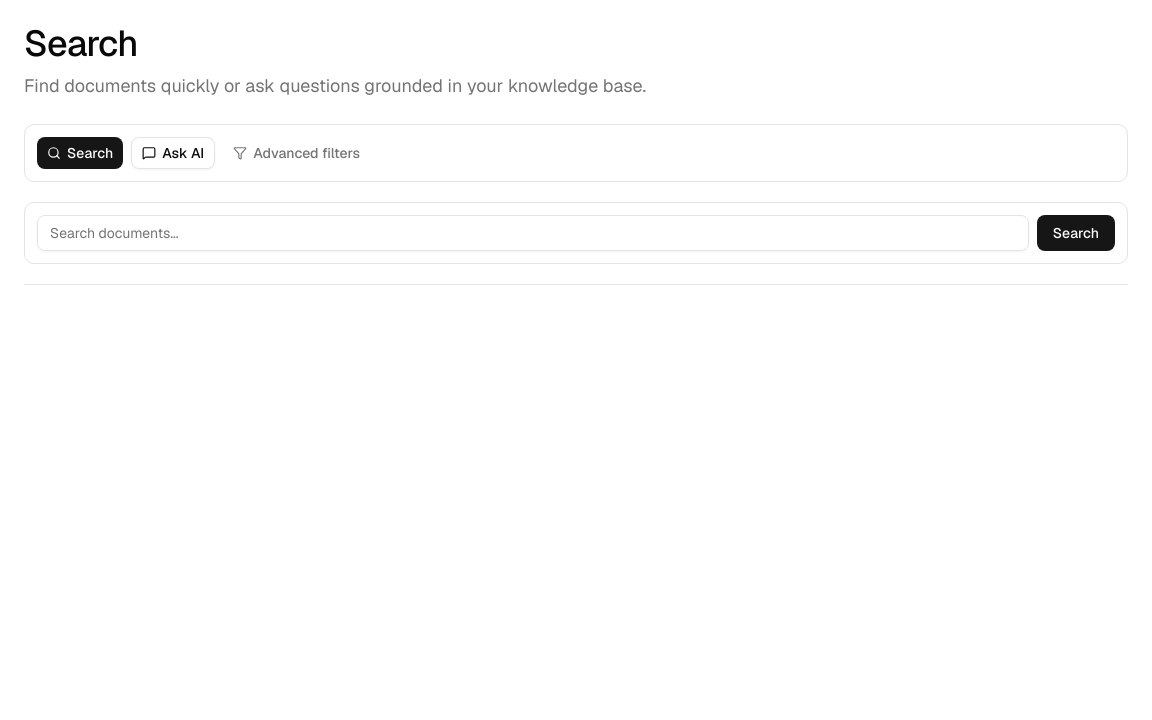
it: Search Behavior › should perform AI question answering
This screenshot has width=1152, height=720.
# Switch to Ask AI mode
Click the button "Ask AI" at (173, 153), box [131, 137, 215, 169]
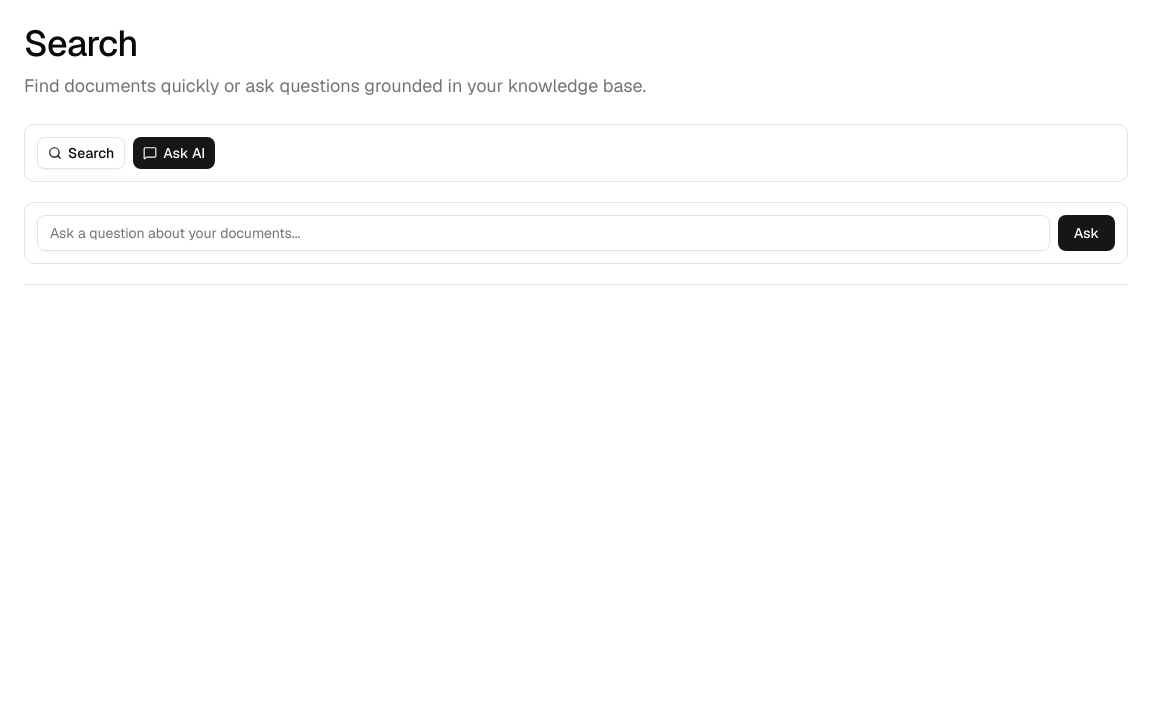
Type "what is test?" into the field with test id "search-input" at (543, 233), box [37, 215, 1050, 251]
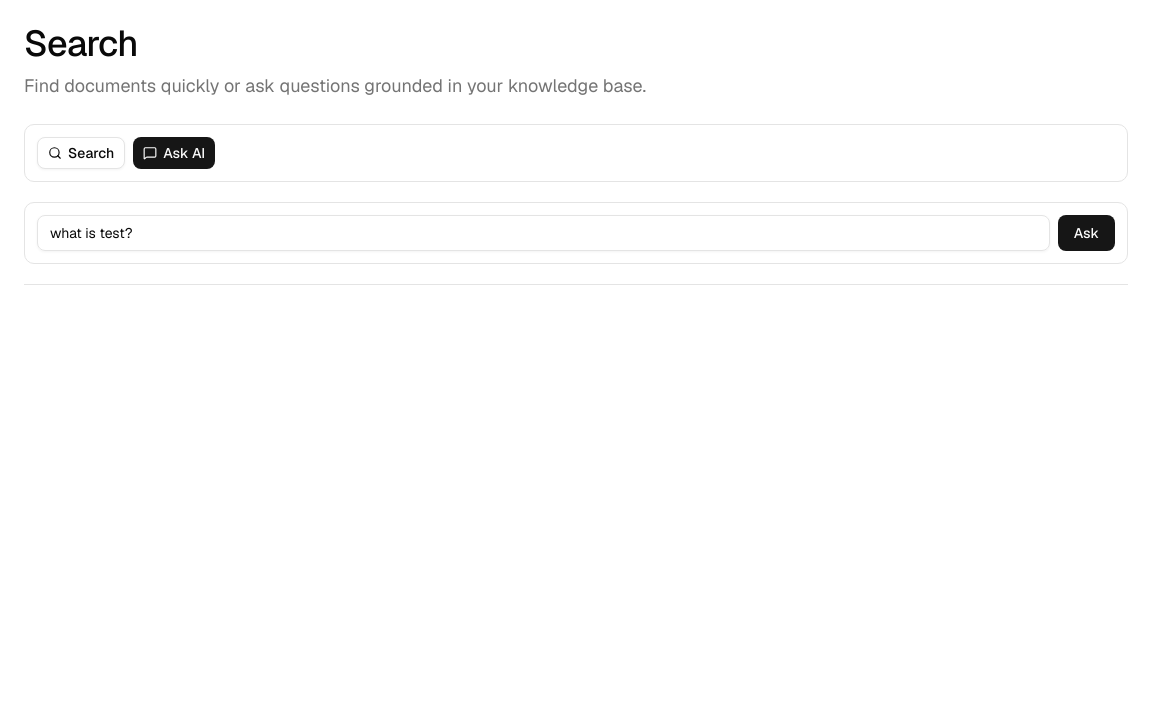
Click the button with test id "search-submit" at (1086, 233), box [1058, 215, 1115, 251]
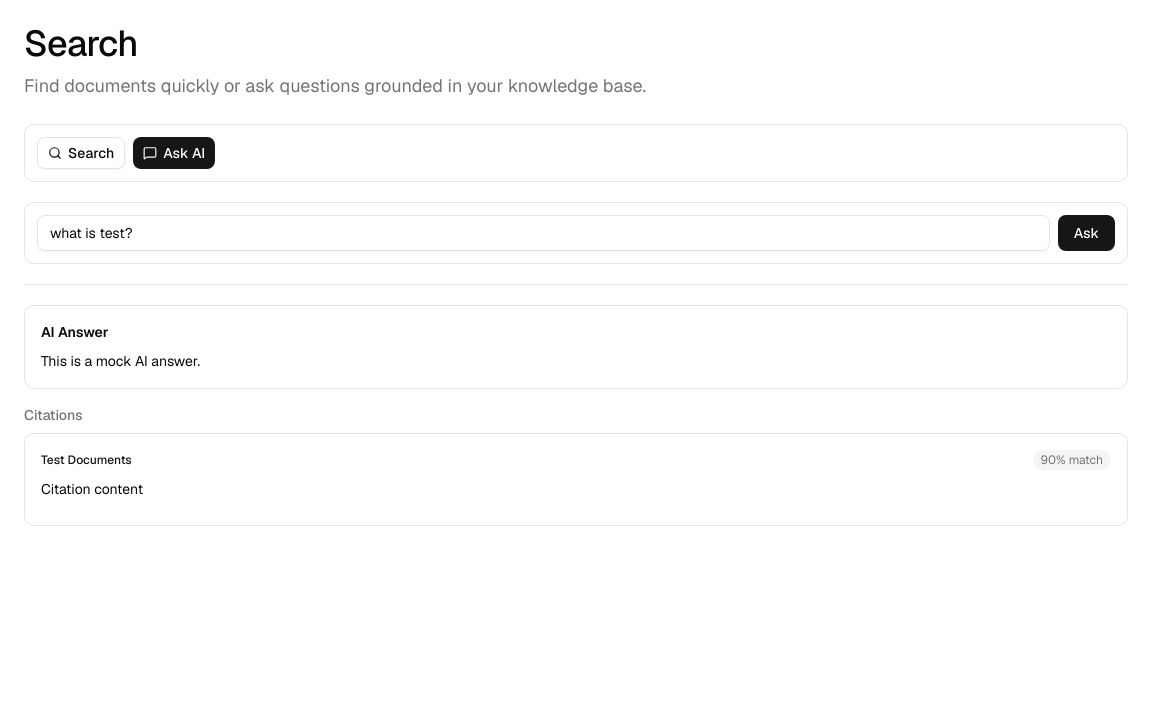
Check: the element with test id "ask-result" is shown, box [24, 305, 1128, 526]
Check: the text "This is a mock AI answer." is shown, box [41, 352, 200, 370]
Check: the heading "Citations" is shown, box [24, 406, 83, 424]
